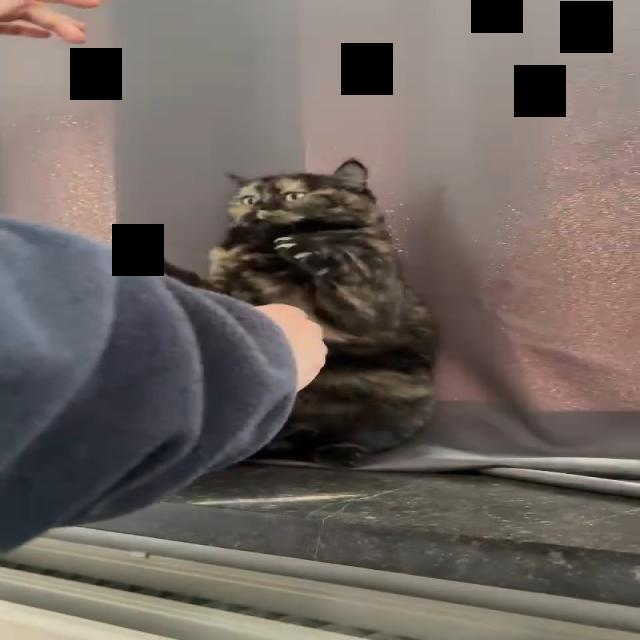authorized: (128, 157, 440, 466)
